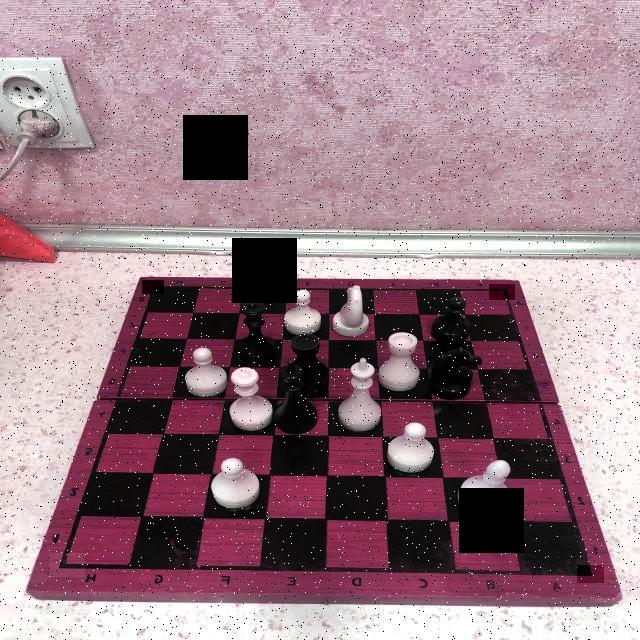chess-table-corners: (49, 553, 85, 577), (577, 565, 604, 583), (489, 284, 515, 300), (142, 280, 164, 294)
